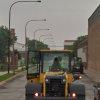Tractor: (17, 38, 84, 97)
